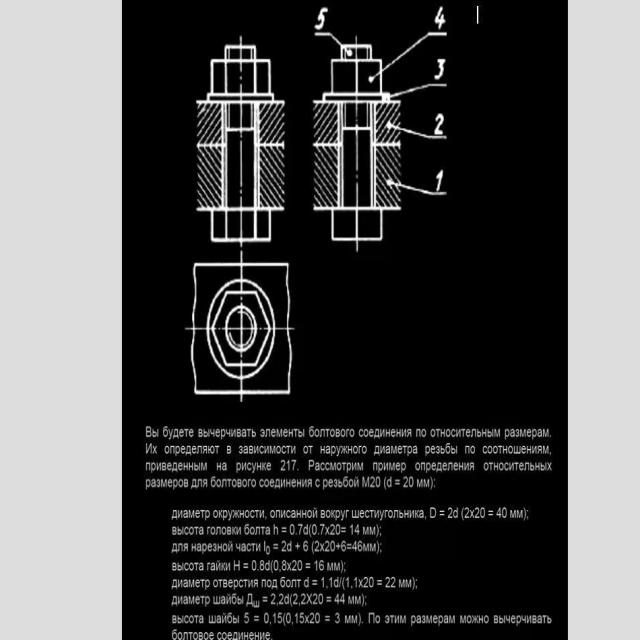numeric: (314, 6, 329, 32), (434, 4, 447, 30), (434, 57, 446, 83), (434, 168, 444, 192), (435, 112, 444, 136), (464, 505, 470, 519), (495, 507, 502, 519), (501, 507, 508, 519), (279, 459, 286, 471), (480, 506, 486, 519), (330, 539, 336, 552), (251, 559, 257, 572), (334, 592, 340, 605), (354, 523, 360, 535), (341, 540, 347, 552), (303, 540, 309, 552), (281, 541, 287, 553), (279, 593, 285, 605), (270, 593, 276, 605), (291, 459, 297, 471), (375, 476, 381, 487), (289, 524, 295, 535), (312, 524, 318, 535), (369, 577, 375, 588), (300, 594, 306, 605), (263, 613, 269, 624), (315, 613, 321, 624), (370, 476, 375, 489), (403, 475, 408, 488), (358, 539, 363, 552), (244, 612, 249, 625), (286, 460, 291, 473), (448, 507, 453, 519), (475, 506, 480, 518), (297, 523, 302, 535), (320, 523, 325, 535), (331, 523, 336, 535), (336, 523, 341, 535), (352, 540, 357, 552), (325, 540, 330, 552), (319, 559, 324, 571), (385, 575, 390, 587), (391, 576, 396, 588), (341, 593, 346, 605), (278, 612, 283, 624), (286, 612, 291, 624), (299, 612, 304, 624), (335, 612, 340, 624), (409, 476, 414, 487), (315, 541, 320, 552), (292, 560, 297, 571), (345, 577, 350, 588), (293, 594, 298, 605), (294, 612, 298, 625), (354, 577, 358, 589), (313, 593, 317, 605), (319, 593, 323, 605), (310, 612, 314, 624), (260, 560, 264, 571), (274, 560, 278, 571), (282, 560, 286, 571), (298, 560, 302, 571), (314, 561, 318, 572), (321, 577, 325, 588), (329, 577, 333, 587), (364, 578, 368, 588), (350, 524, 353, 535), (273, 613, 276, 624)
special_symbol: (324, 614, 331, 623), (488, 508, 494, 518), (326, 595, 332, 605), (376, 579, 383, 587), (281, 526, 287, 535), (394, 478, 400, 486), (439, 509, 445, 516), (312, 579, 318, 586), (335, 542, 340, 550), (305, 563, 311, 569), (340, 527, 346, 533), (295, 543, 300, 550), (273, 544, 279, 549), (347, 544, 352, 550)
